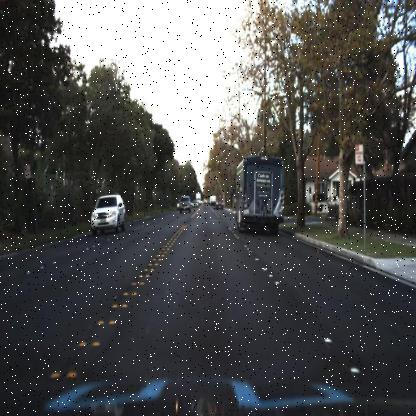car: (88, 182, 130, 236), (176, 191, 193, 215), (212, 194, 228, 215), (179, 193, 191, 217)
truck: (234, 150, 286, 231)
